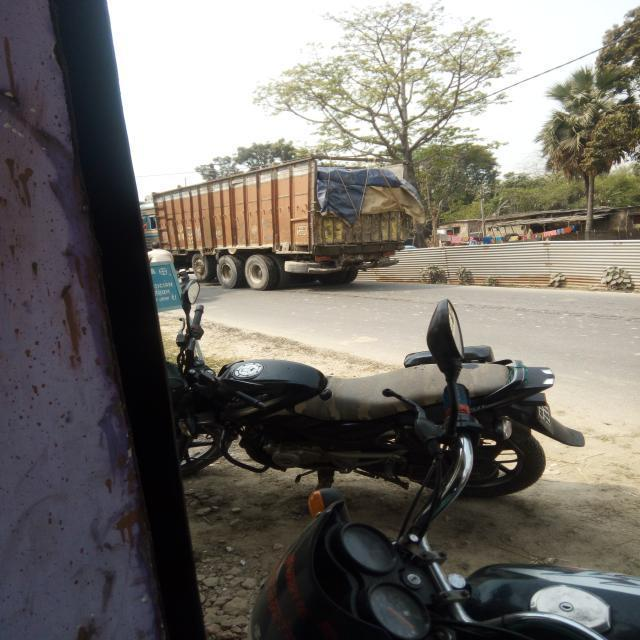truck_back: (133, 157, 416, 295)
